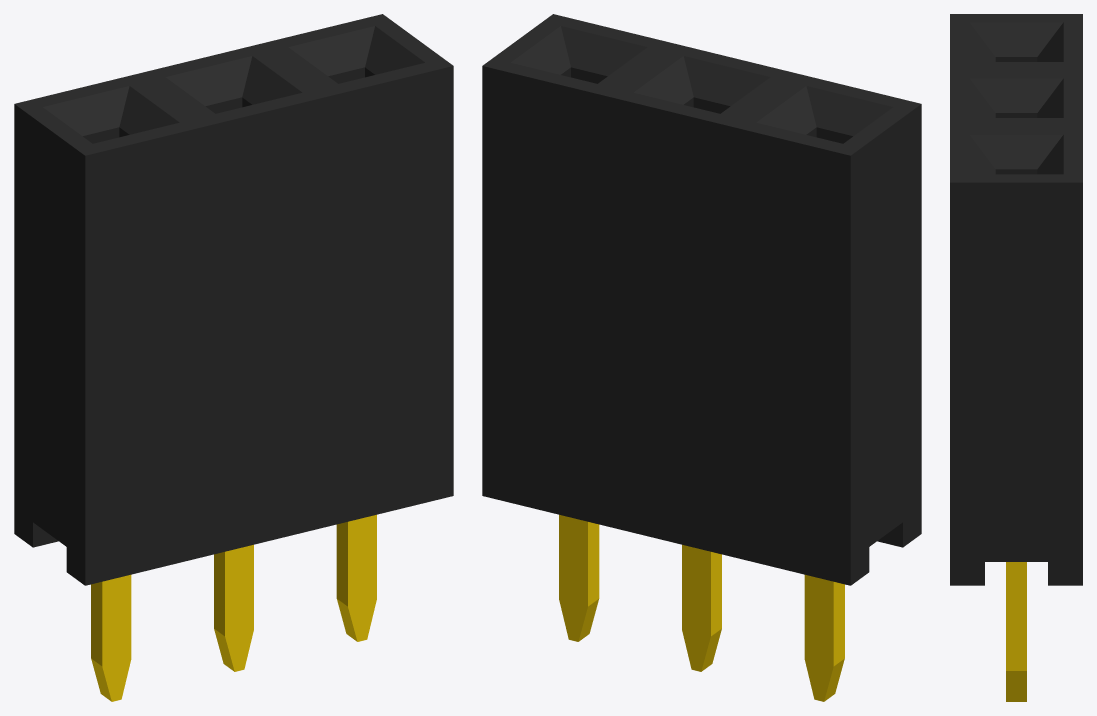
File: PBS3.glb
3 renders of one model, left to right at view 1: azimuth 30°, elevation 25°; view 2: azimuth 150°, elevation 25°; view 3: azimuth 270°, elevation 25°, orthographic. The views are drawn at different scales.
Visible parts, largest first — view 1: PBS (DS1023 CONNFLY); view 2: PBS (DS1023 CONNFLY); view 3: PBS (DS1023 CONNFLY).
Boxes of the visible parts, x1,y1,x2,y2 form: PBS (DS1023 CONNFLY): (14, 14, 453, 701); PBS (DS1023 CONNFLY): (482, 14, 921, 701); PBS (DS1023 CONNFLY): (950, 14, 1082, 701).
Size of the model in its own units: 0.00762 by 0.0115 by 0.00254.
